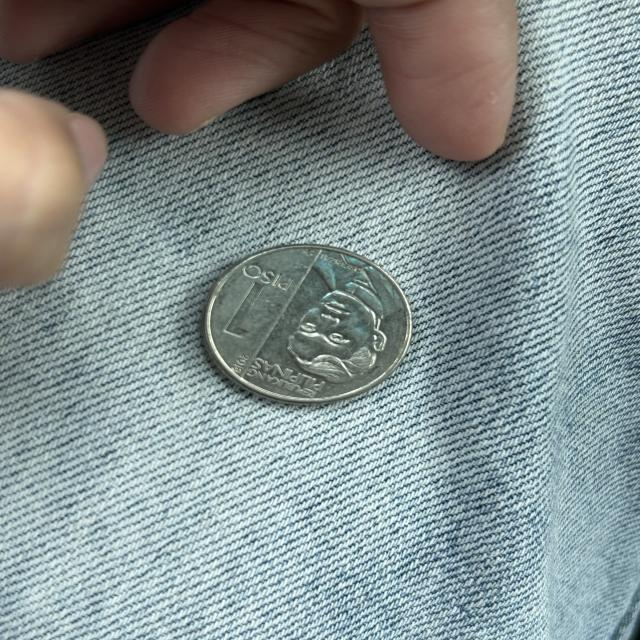1_New_Front: (222, 258, 288, 344)
